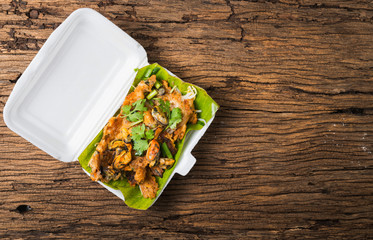styrofoam: (3, 8, 218, 211)
